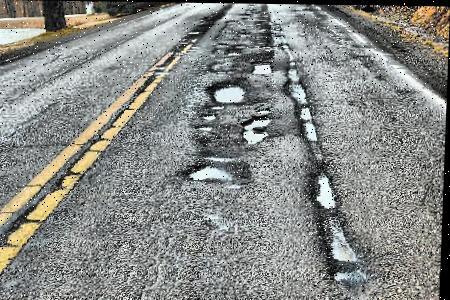pothole: (322, 216, 362, 261), (239, 114, 273, 144), (208, 77, 247, 102), (313, 173, 339, 207), (185, 162, 230, 179), (283, 77, 310, 102), (300, 119, 321, 140), (251, 59, 273, 75), (202, 152, 235, 162), (201, 111, 219, 121), (196, 123, 214, 130), (226, 49, 243, 56), (211, 102, 224, 110)
